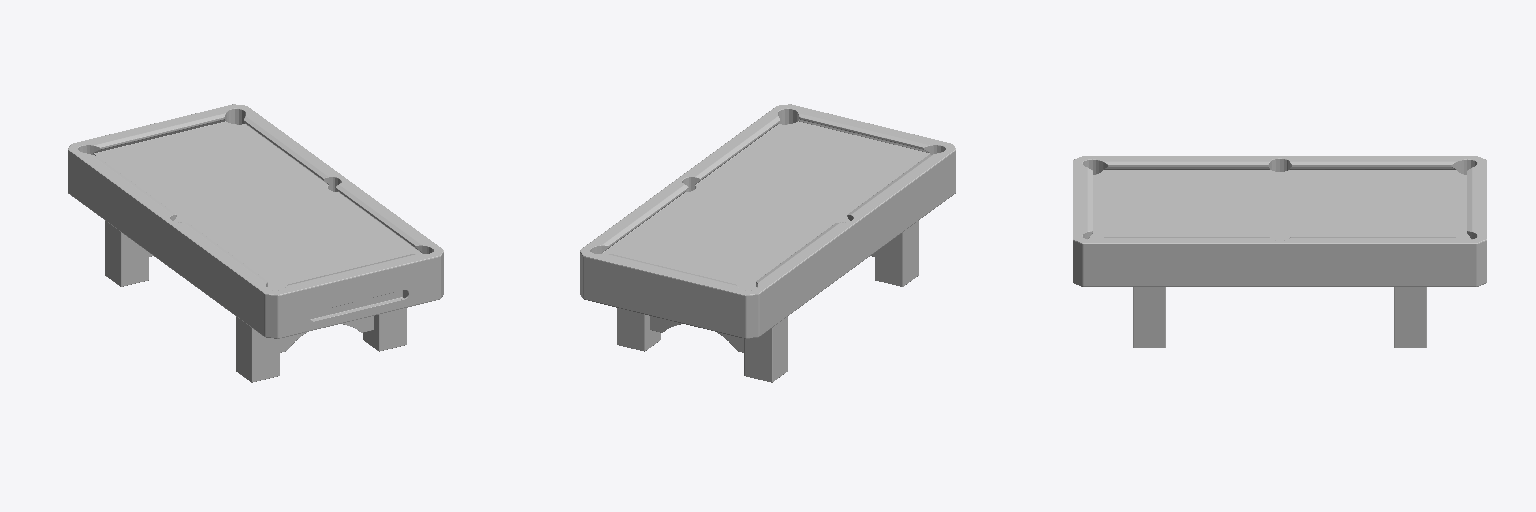
3 renders of one model, left to right at view 1: azimuth 30°, elevation 25°; view 2: azimuth 150°, elevation 25°; view 3: azimuth 270°, elevation 25°, orthographic.
Visible parts, largest first — view 1: 10523_Pool_Table_v1_L3; view 2: 10523_Pool_Table_v1_L3; view 3: 10523_Pool_Table_v1_L3.
Boxes of the visible parts, <box> form: 10523_Pool_Table_v1_L3: <box>68,104,443,382</box>; 10523_Pool_Table_v1_L3: <box>580,104,955,382</box>; 10523_Pool_Table_v1_L3: <box>1073,156,1486,347</box>.
Bounding box in the file's own units: 127 × 76.2 × 254.